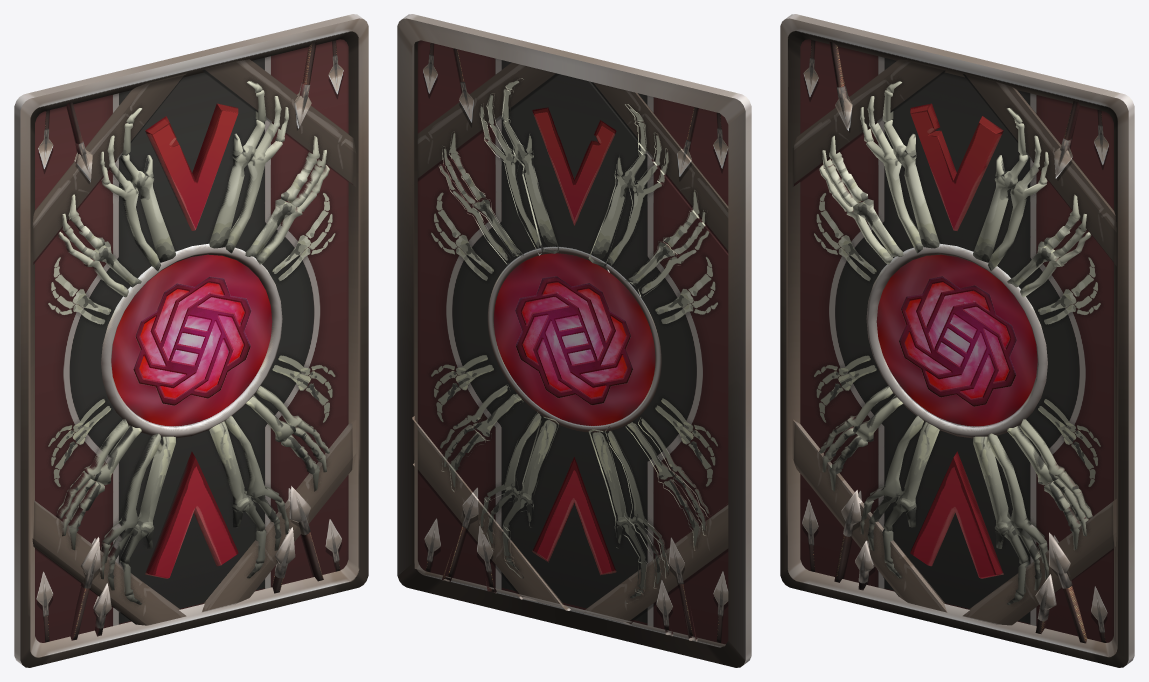
Rendered from chaos.gltf.
3 views of the same model, side by side, from view 1: azimuth 30°, elevation 25°; view 2: azimuth 150°, elevation 25°; view 3: azimuth 330°, elevation 25° (orthographic).
Parts seen in each view (by area): view 1: M_CardBack_Chaos; view 2: M_CardBack_Chaos; view 3: M_CardBack_Chaos.
Part boxes in pixels (x1,y1,x2,y2): M_CardBack_Chaos: (14, 14, 368, 667); M_CardBack_Chaos: (397, 14, 751, 667); M_CardBack_Chaos: (780, 14, 1134, 667).
Size of the model in its own units: 0.0996 by 0.1554 by 0.00484.
1 material, 1 textured.
